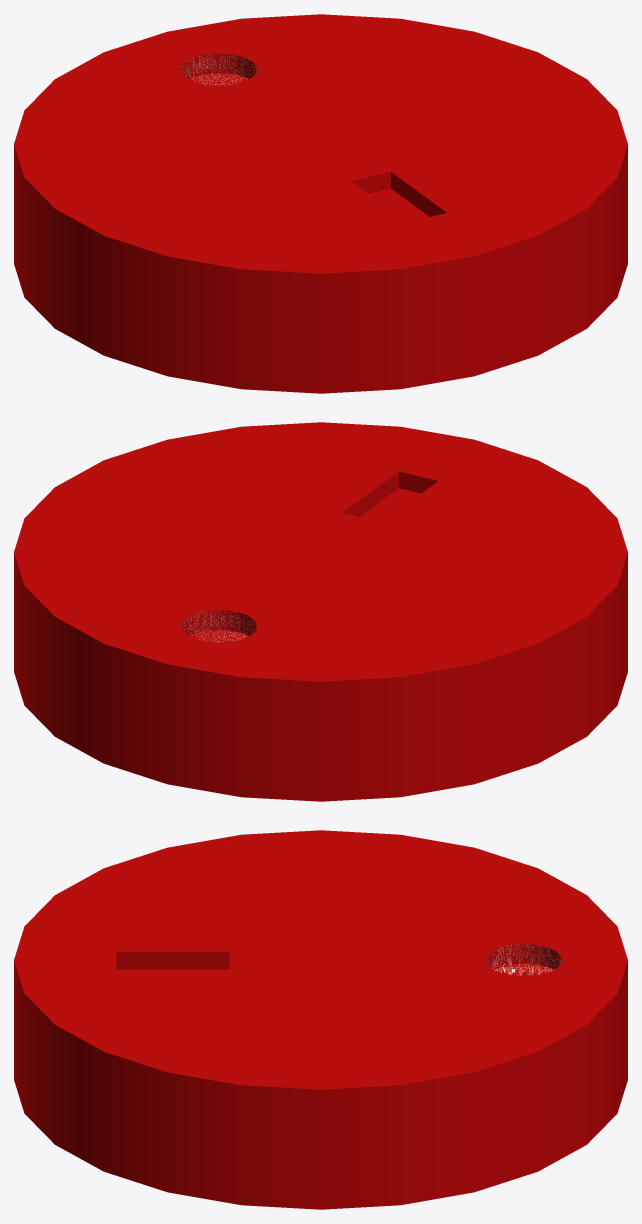
Rendered from original-25.obj.
The picture shows the model from 3 angles, top to bottom: view 1: azimuth 30°, elevation 25°; view 2: azimuth 150°, elevation 25°; view 3: azimuth 270°, elevation 25°; orthographic projection.
Parts seen in each view (by area): view 1: mesh41/mesh41-geometry#mesh41-geometry; view 2: mesh41/mesh41-geometry#mesh41-geometry; view 3: mesh41/mesh41-geometry#mesh41-geometry.
Part boxes in pixels (x1,y1,x2,y2): mesh41/mesh41-geometry#mesh41-geometry: (14,14,627,393); mesh41/mesh41-geometry#mesh41-geometry: (14,422,627,801); mesh41/mesh41-geometry#mesh41-geometry: (14,830,627,1209).
Bounding box in the file's own units: 0.4478 × 0.0966 × 0.4478.
